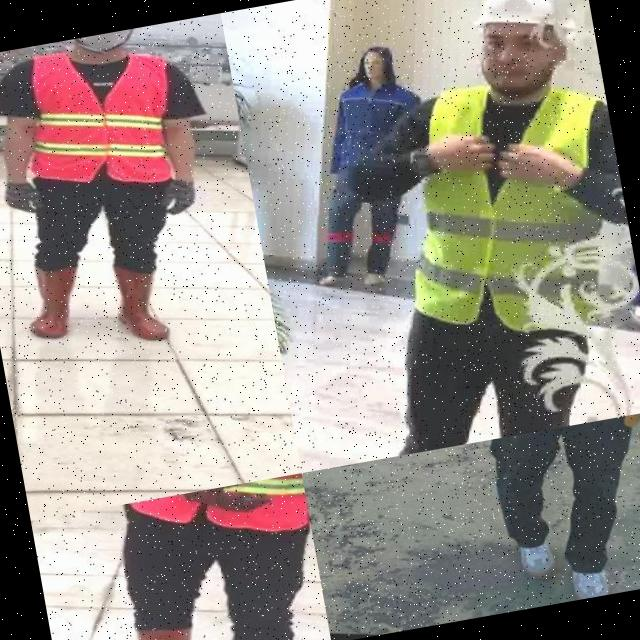boots: (96, 256, 186, 351), (13, 252, 88, 346), (92, 611, 194, 640), (511, 534, 564, 587), (562, 560, 614, 602)
helmet: (467, 0, 586, 50)
vest: (366, 45, 640, 363), (3, 26, 200, 210), (120, 472, 312, 568)
